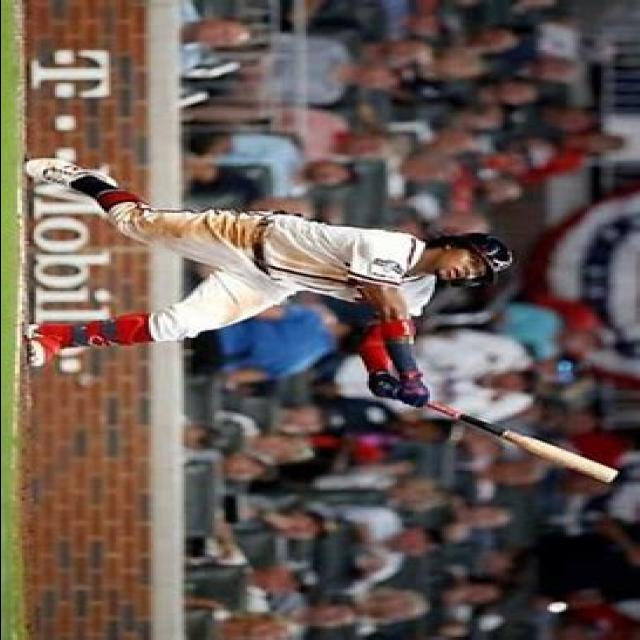bat: (423, 398, 622, 485)
